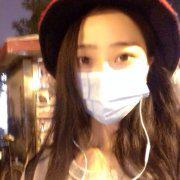OK: (68, 41, 148, 121)
